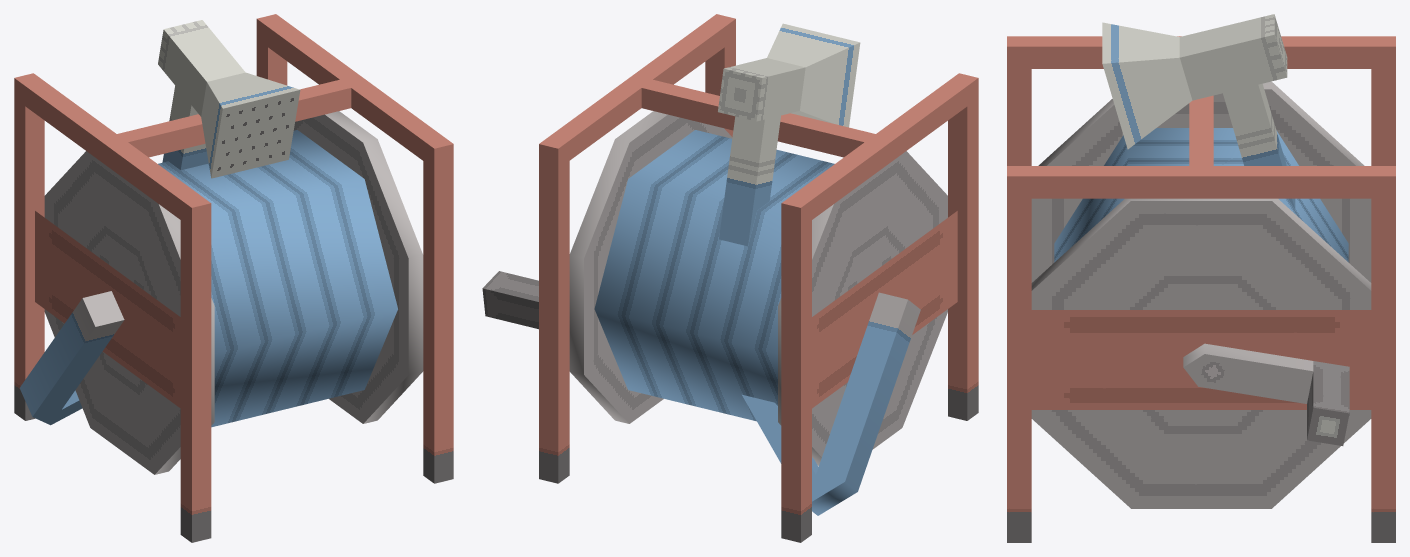
The model's file is 030d_Hose_Reel.glb.
3 views of the same model, side by side, from view 1: azimuth 30°, elevation 25°; view 2: azimuth 150°, elevation 25°; view 3: azimuth 270°, elevation 25° (orthographic). The views are drawn at different scales.
Visible parts, largest first — view 1: part_0; view 2: part_0; view 3: part_0.
Boxes of the visible parts, bbox=[...] form: part_0: bbox=[14, 14, 453, 542]; part_0: bbox=[482, 14, 978, 542]; part_0: bbox=[1007, 14, 1395, 542].
Size of the model in its own units: 0.37 by 0.3953 by 0.3172.
1 material, 1 textured.
